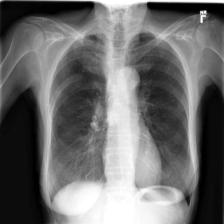normal: (43, 27, 198, 222)
